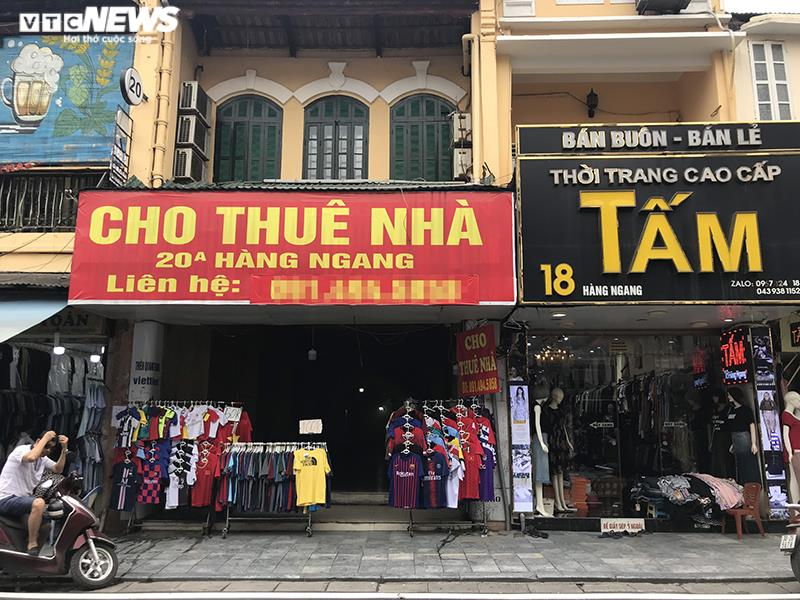banner: (66, 186, 521, 318), (514, 122, 800, 308)
